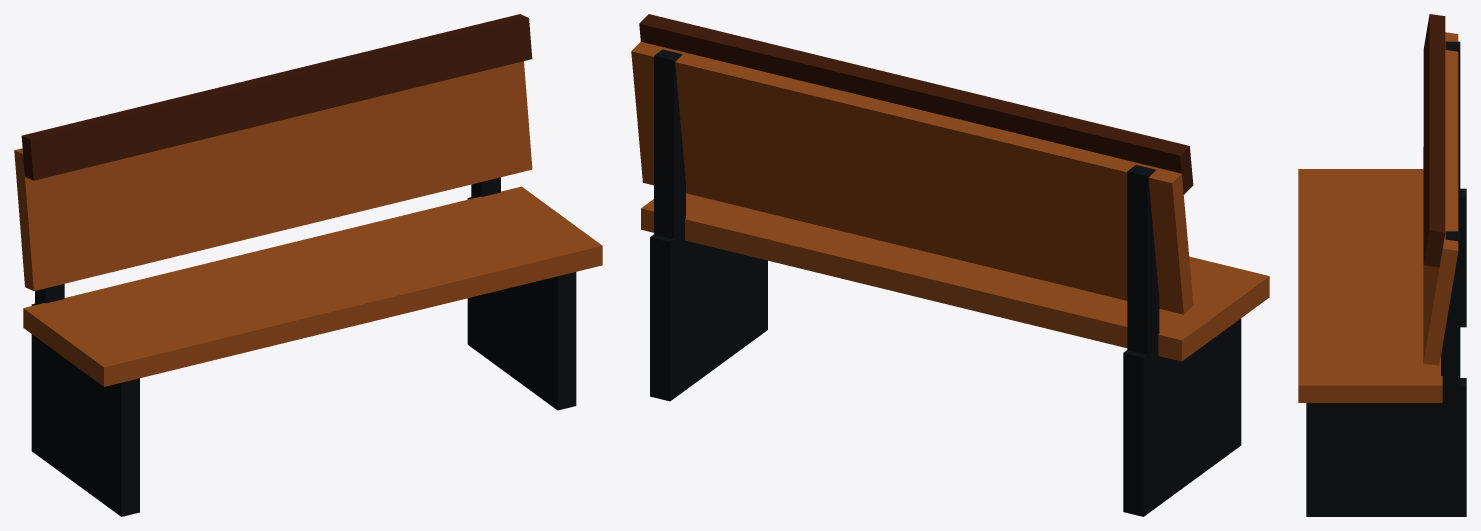
File: park_bench.obj
3 views of the same model, side by side, from view 1: azimuth 30°, elevation 25°; view 2: azimuth 150°, elevation 25°; view 3: azimuth 270°, elevation 25° (orthographic). The views are drawn at different scales.
Parts seen in each view (by area): view 1: park_bench; view 2: park_bench; view 3: park_bench.
Boxes of the visible parts, <box> form: park_bench: <box>14,14,602,516</box>; park_bench: <box>631,14,1269,516</box>; park_bench: <box>1298,14,1466,516</box>.
Size of the model in its own units: 1.6 by 1.02 by 0.525.
